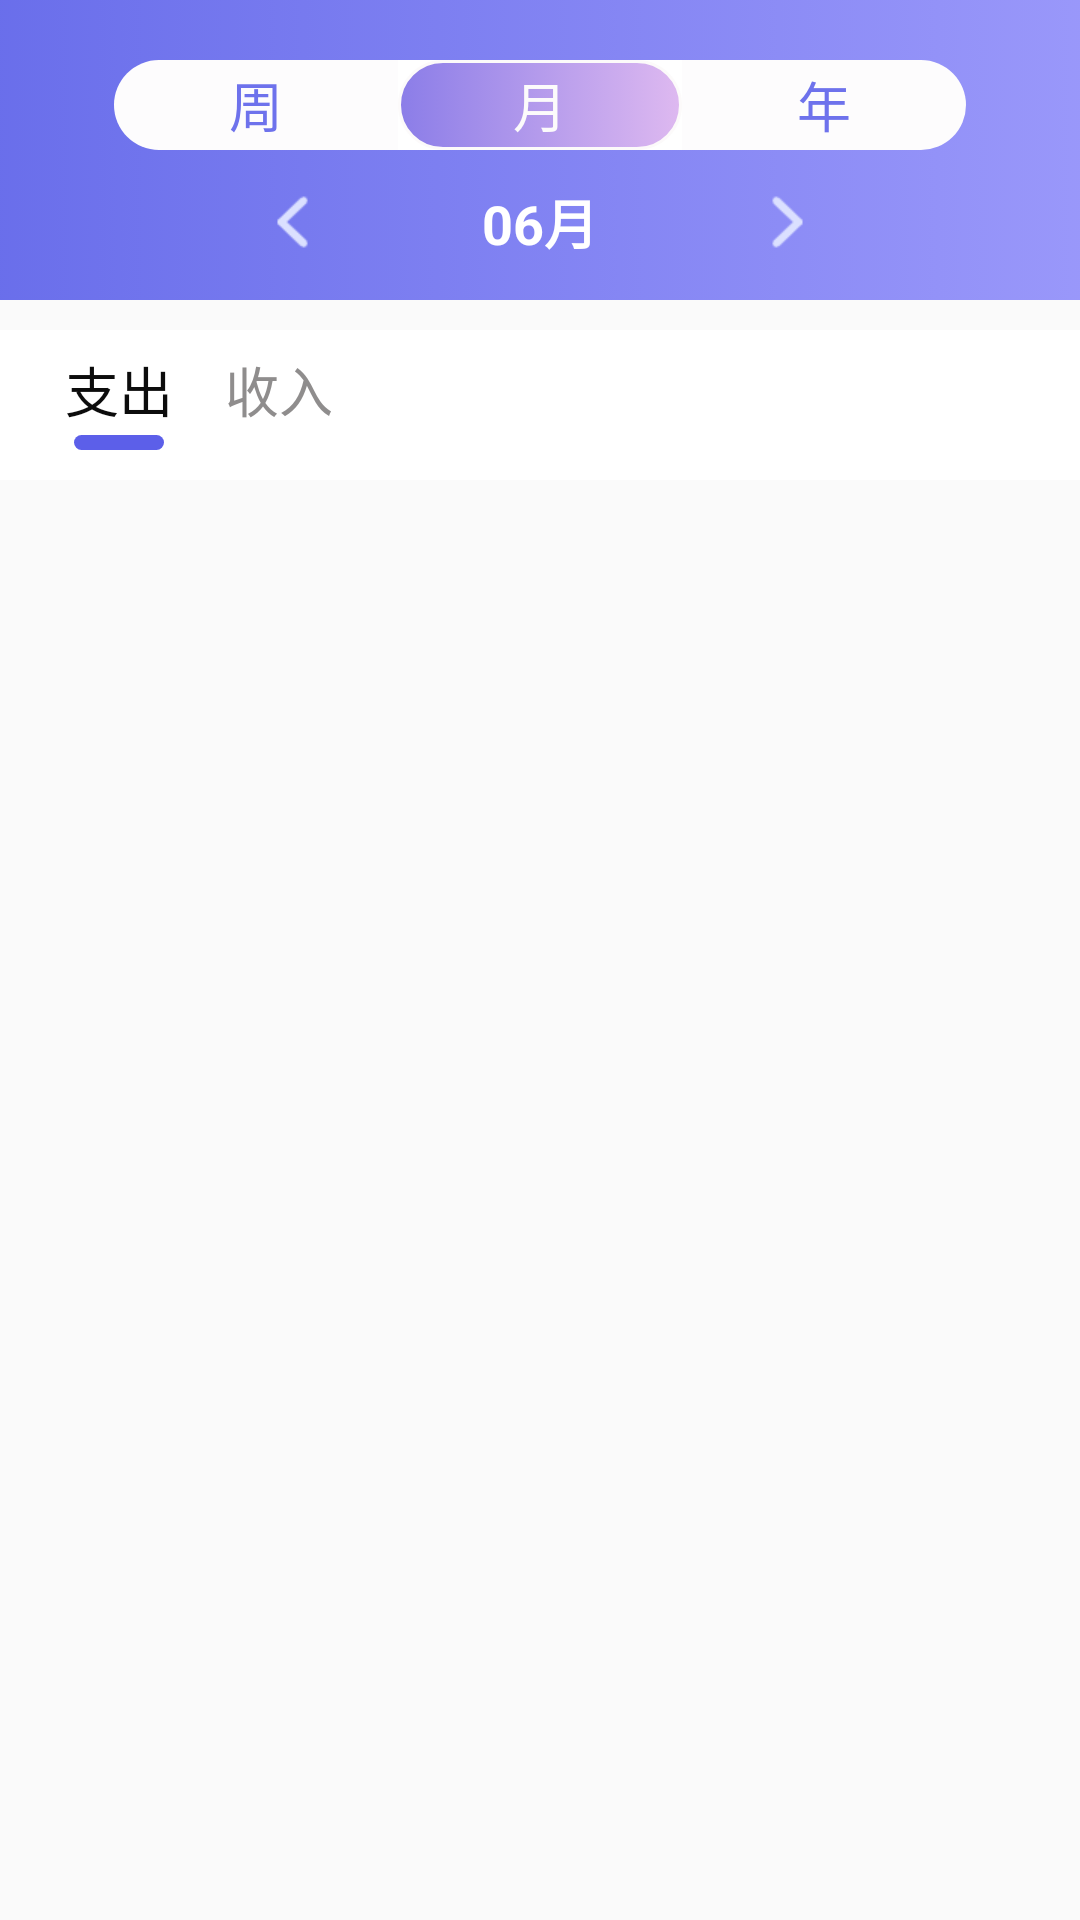

Icons on this 1080px x 1920px Android screen, each with its box as box=[x1, y1, x2, y2]:
left: box=[277, 196, 308, 248]
right: box=[772, 196, 803, 248]
